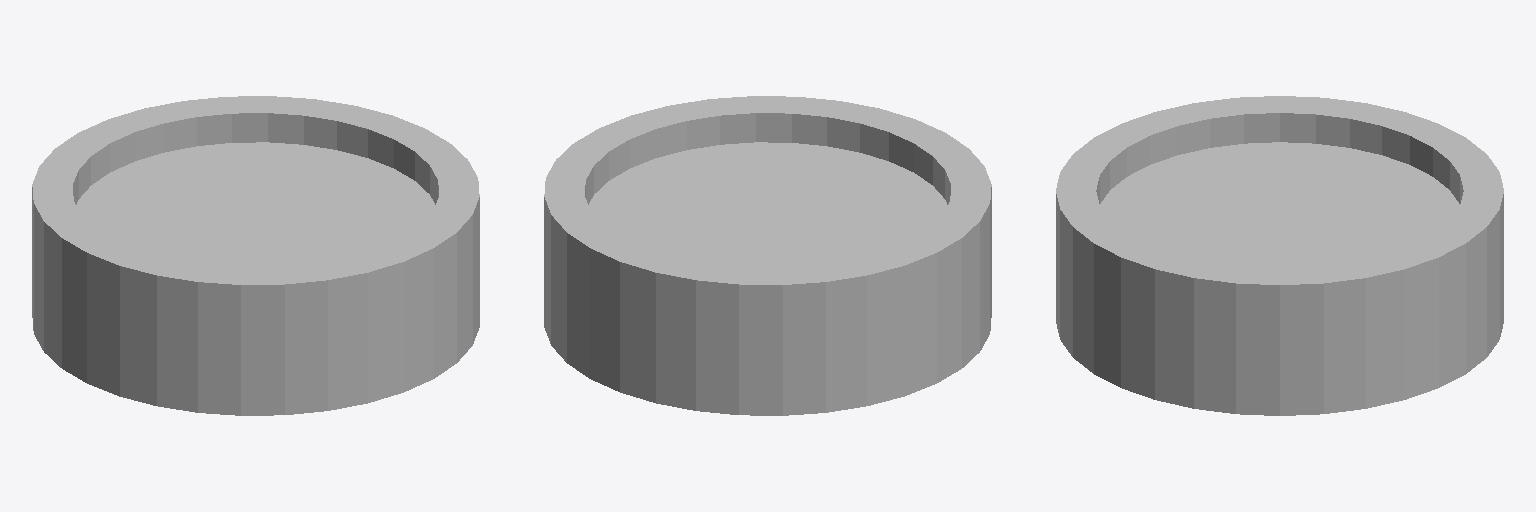
File: Red_Checker.obj
3 views of the same model, side by side, from view 1: azimuth 30°, elevation 25°; view 2: azimuth 150°, elevation 25°; view 3: azimuth 270°, elevation 25° (orthographic).
Parts seen in each view (by area): view 1: Red_Checker; view 2: Red_Checker; view 3: Red_Checker.
Boxes of the visible parts, box(x1,y1,x2,y2) form: Red_Checker: box(32, 96, 479, 415); Red_Checker: box(544, 96, 991, 415); Red_Checker: box(1056, 96, 1503, 415).
Bounding box in the file's own units: 2 × 0.6439 × 2.